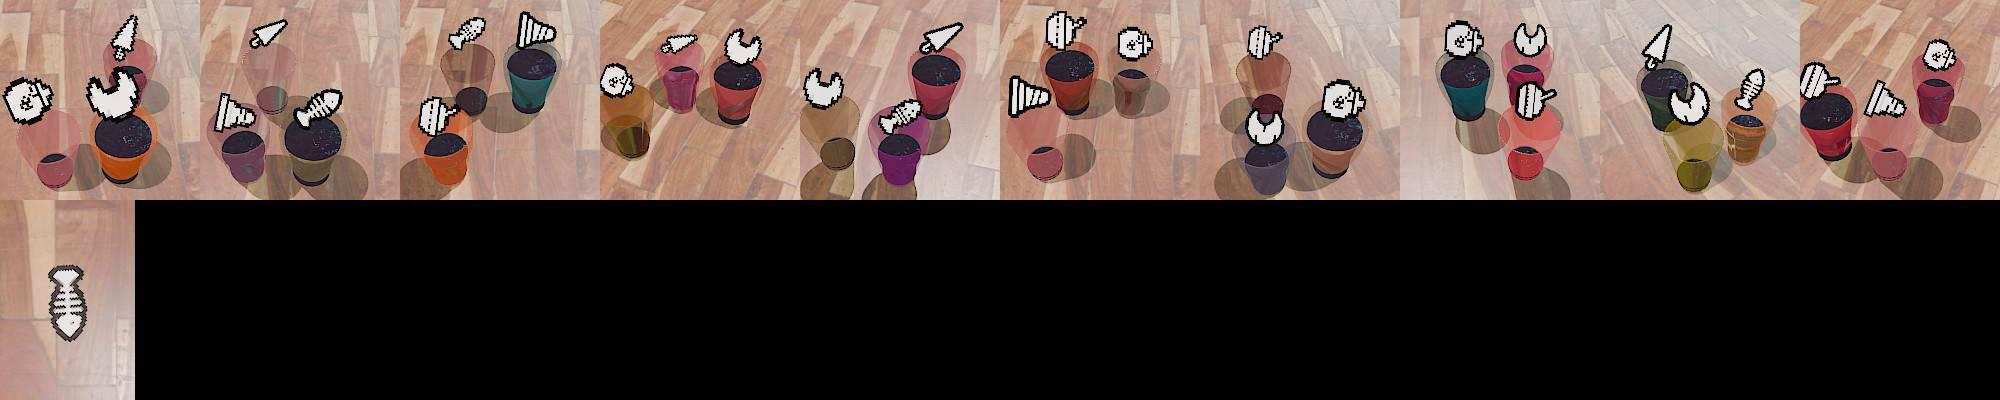icon: (46, 263, 87, 344), (85, 68, 141, 121), (2, 76, 55, 126), (1319, 78, 1364, 123), (1668, 79, 1711, 125), (292, 88, 344, 126), (213, 90, 259, 132), (802, 66, 845, 109), (417, 94, 460, 137), (1008, 74, 1051, 117), (1515, 79, 1559, 121), (1044, 10, 1087, 52), (877, 96, 924, 134), (1443, 19, 1485, 61), (1799, 61, 1842, 102), (1245, 105, 1286, 147), (1863, 79, 1907, 118), (516, 11, 558, 51), (722, 28, 763, 67), (1641, 23, 1673, 70), (919, 21, 963, 55), (109, 13, 140, 61), (447, 15, 487, 51), (1735, 67, 1767, 111), (1512, 21, 1548, 59), (1246, 24, 1283, 60), (598, 62, 634, 98), (1116, 25, 1153, 60), (248, 19, 288, 50), (1922, 39, 1957, 72), (659, 32, 700, 55)
